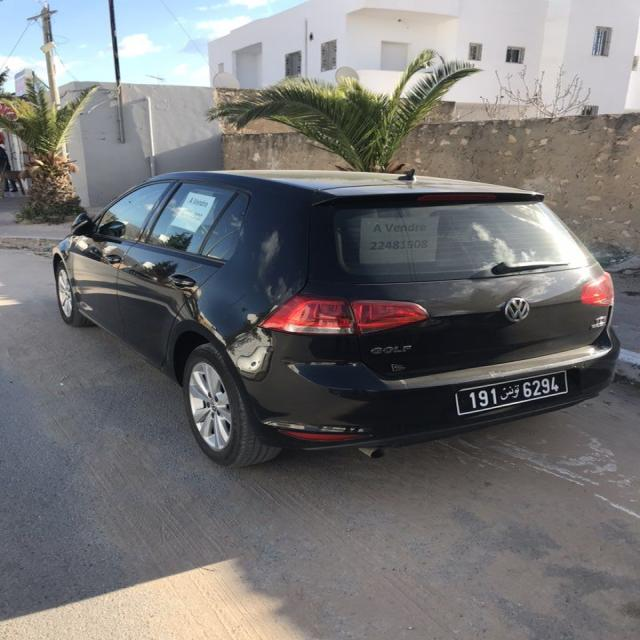LP: (452, 370, 570, 414)
